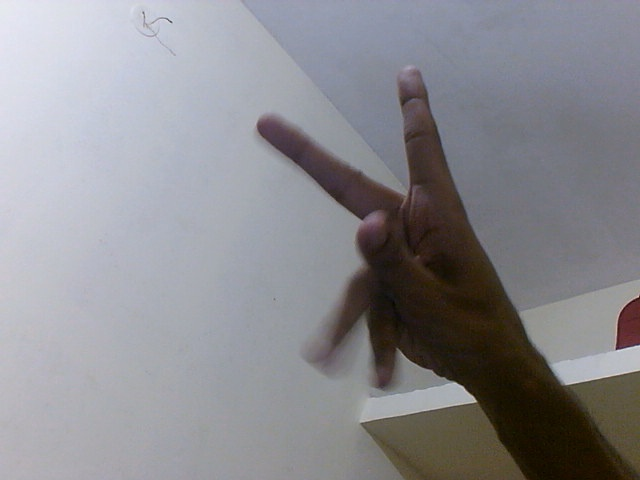hand: (253, 64, 538, 398)
